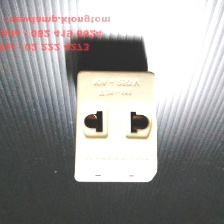three_eye_plug: (68, 66, 160, 187)
